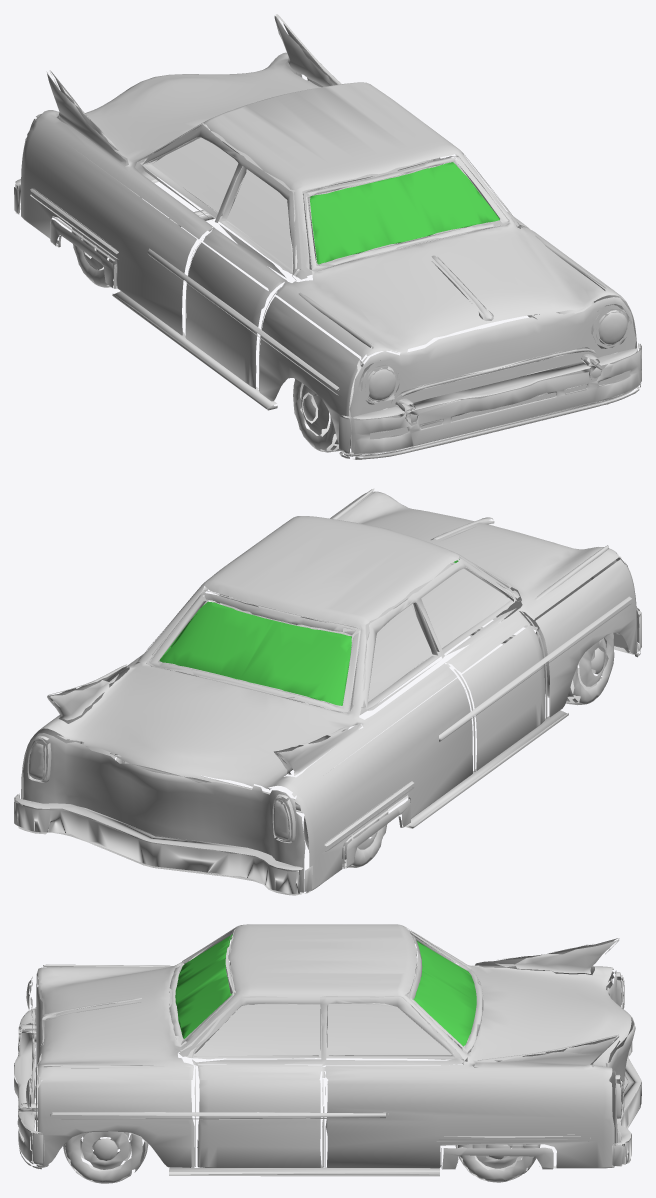
File: ToyCar_LOD1.obj
The picture shows the model from 3 angles, top to bottom: view 1: azimuth 30°, elevation 25°; view 2: azimuth 150°, elevation 25°; view 3: azimuth 270°, elevation 25°; orthographic projection. The views are drawn at different scales.
Parts seen in each view (by area): view 1: ToyCar_m0, ToyCar_m2; view 2: ToyCar_m0, ToyCar_m2; view 3: ToyCar_m0, ToyCar_m2.
Part boxes in pixels (box(x1,y1,x2,y2)): ToyCar_m0: box(14, 14, 641, 459); ToyCar_m2: box(309, 162, 499, 264); ToyCar_m0: box(14, 488, 641, 895); ToyCar_m2: box(159, 559, 459, 705); ToyCar_m0: box(14, 924, 641, 1183); ToyCar_m2: box(175, 934, 476, 1046).
Size of the model in its own units: 0.0187 by 0.0116 by 0.0383.
